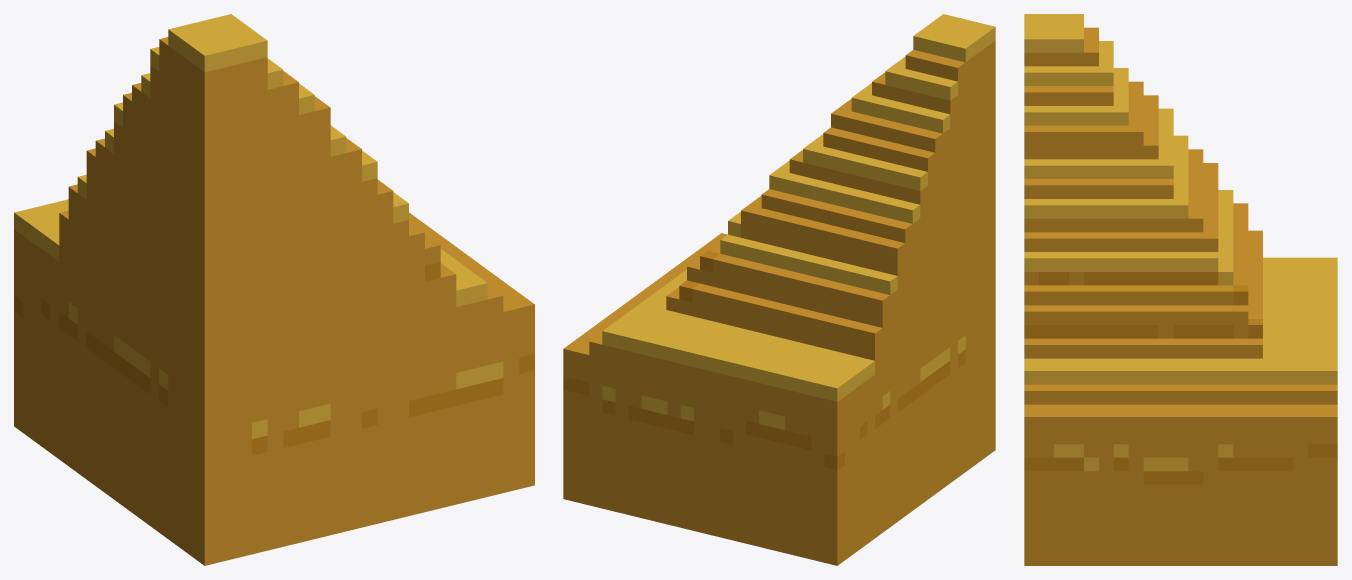
The model's file is sha4.obj.
3 renders of one model, left to right at view 1: azimuth 30°, elevation 25°; view 2: azimuth 150°, elevation 25°; view 3: azimuth 270°, elevation 25°, orthographic. The views are drawn at different scales.
Bounding box in the file's own units: 21 × 31 × 21.
1 material, 1 textured.
